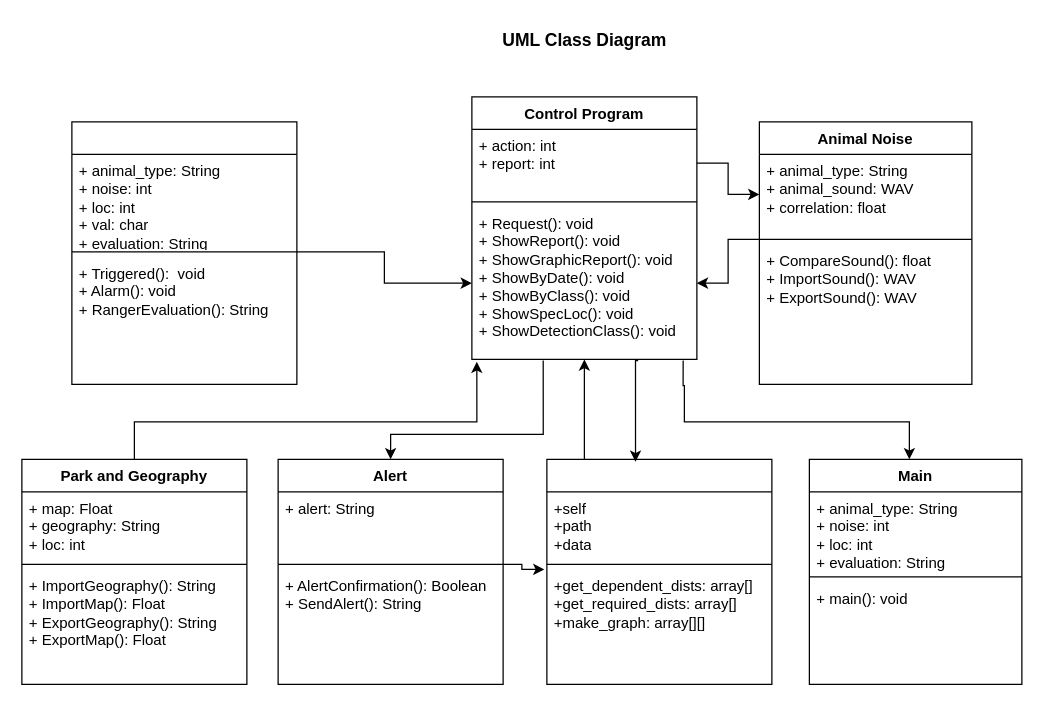
Some shapes in this 1044 by 709 pixel diagram are drawn without their labels. Here are the shapes that lost their labels. From the top down, the box of each, then its label:
(71, 121, 297, 384): Sensor
(546, 458, 772, 684): Database
